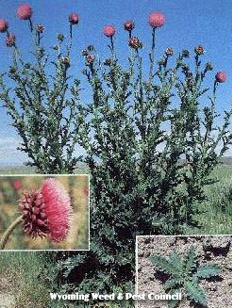thistle: (23, 178, 76, 246), (147, 11, 166, 31), (101, 24, 118, 42), (16, 5, 35, 21), (121, 19, 138, 34), (66, 11, 81, 27), (214, 70, 227, 84)
